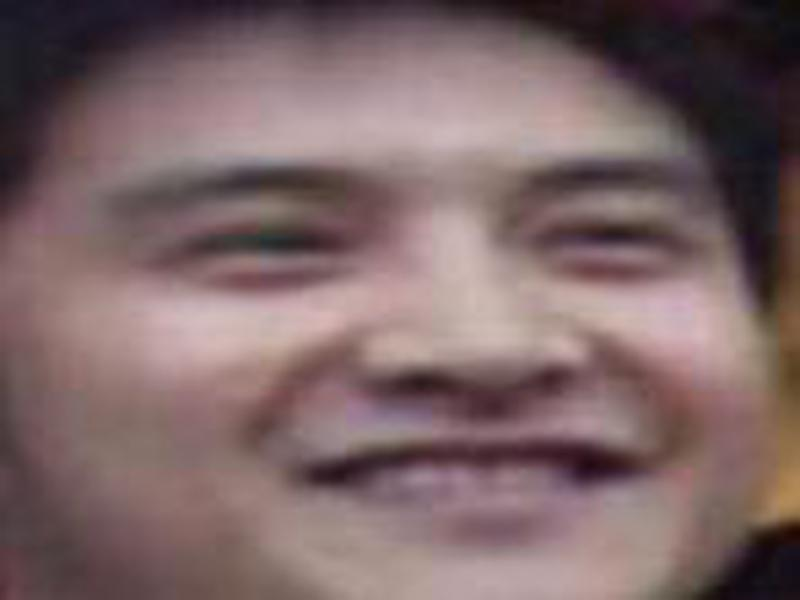without_mask: (12, 16, 765, 600)
